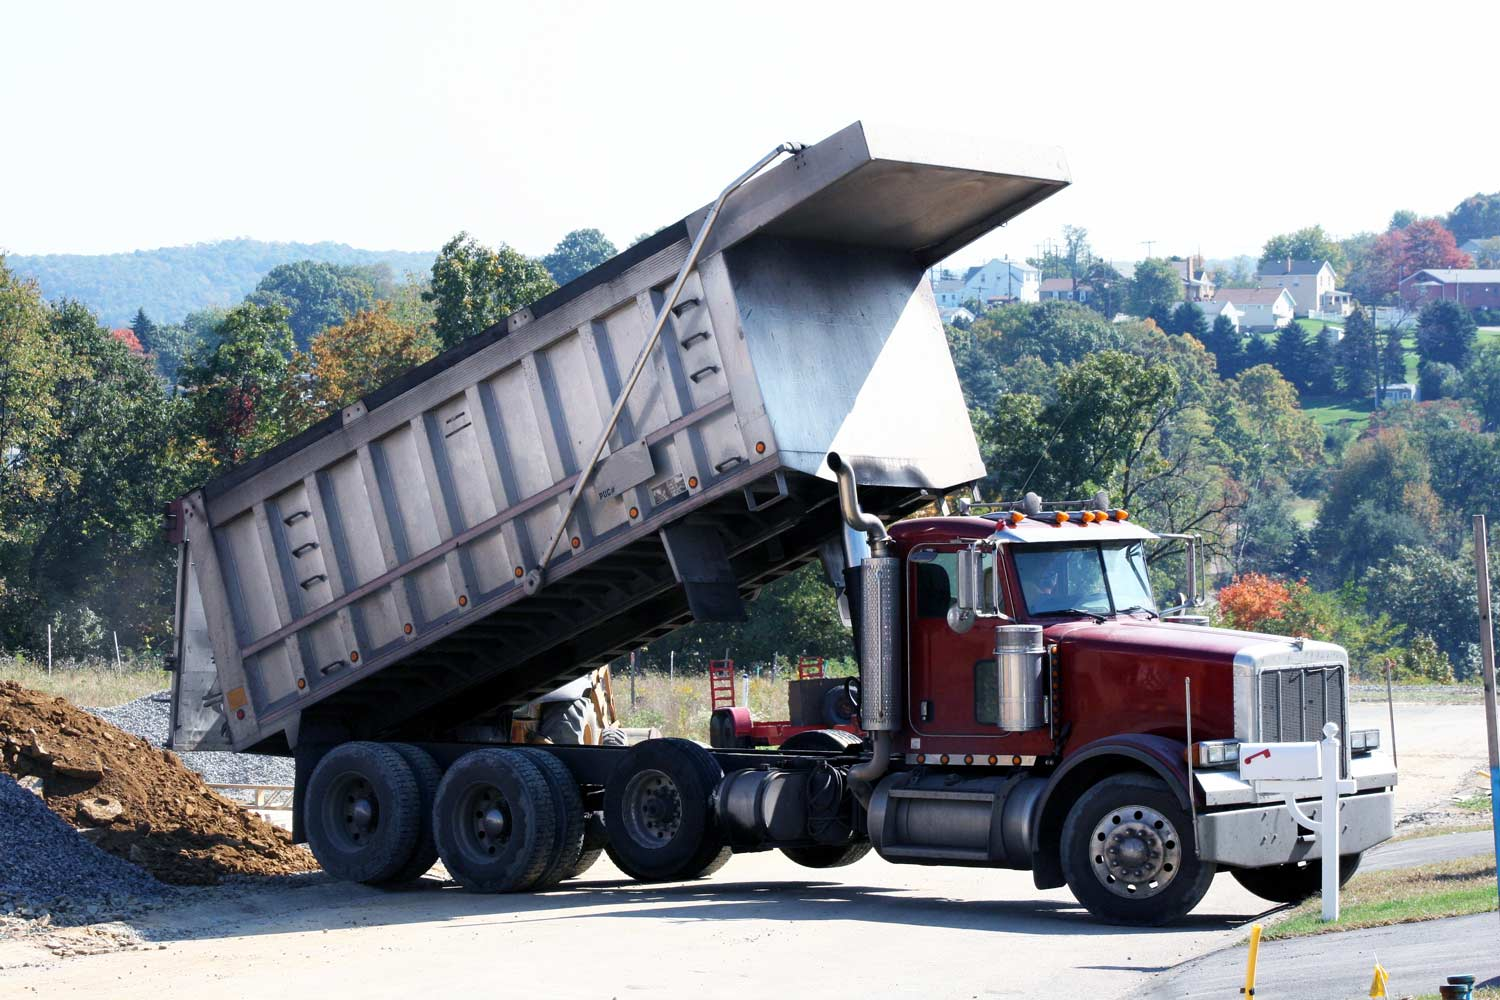truck: (150, 115, 1396, 925)
